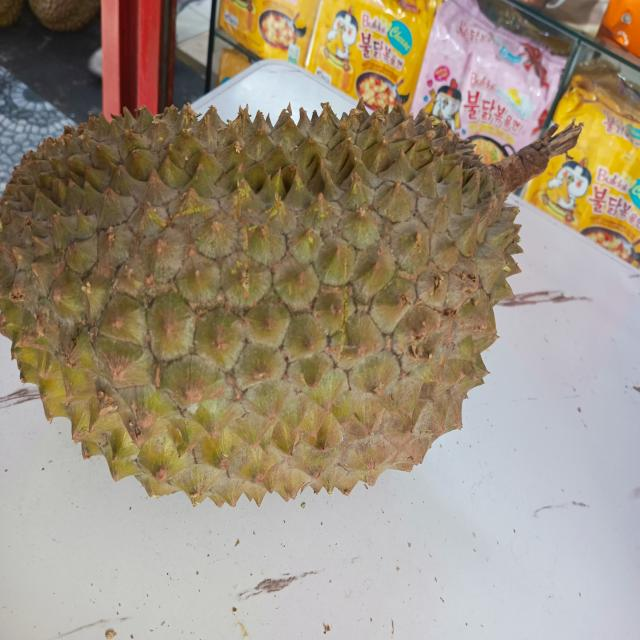mature: (0, 89, 530, 544)
